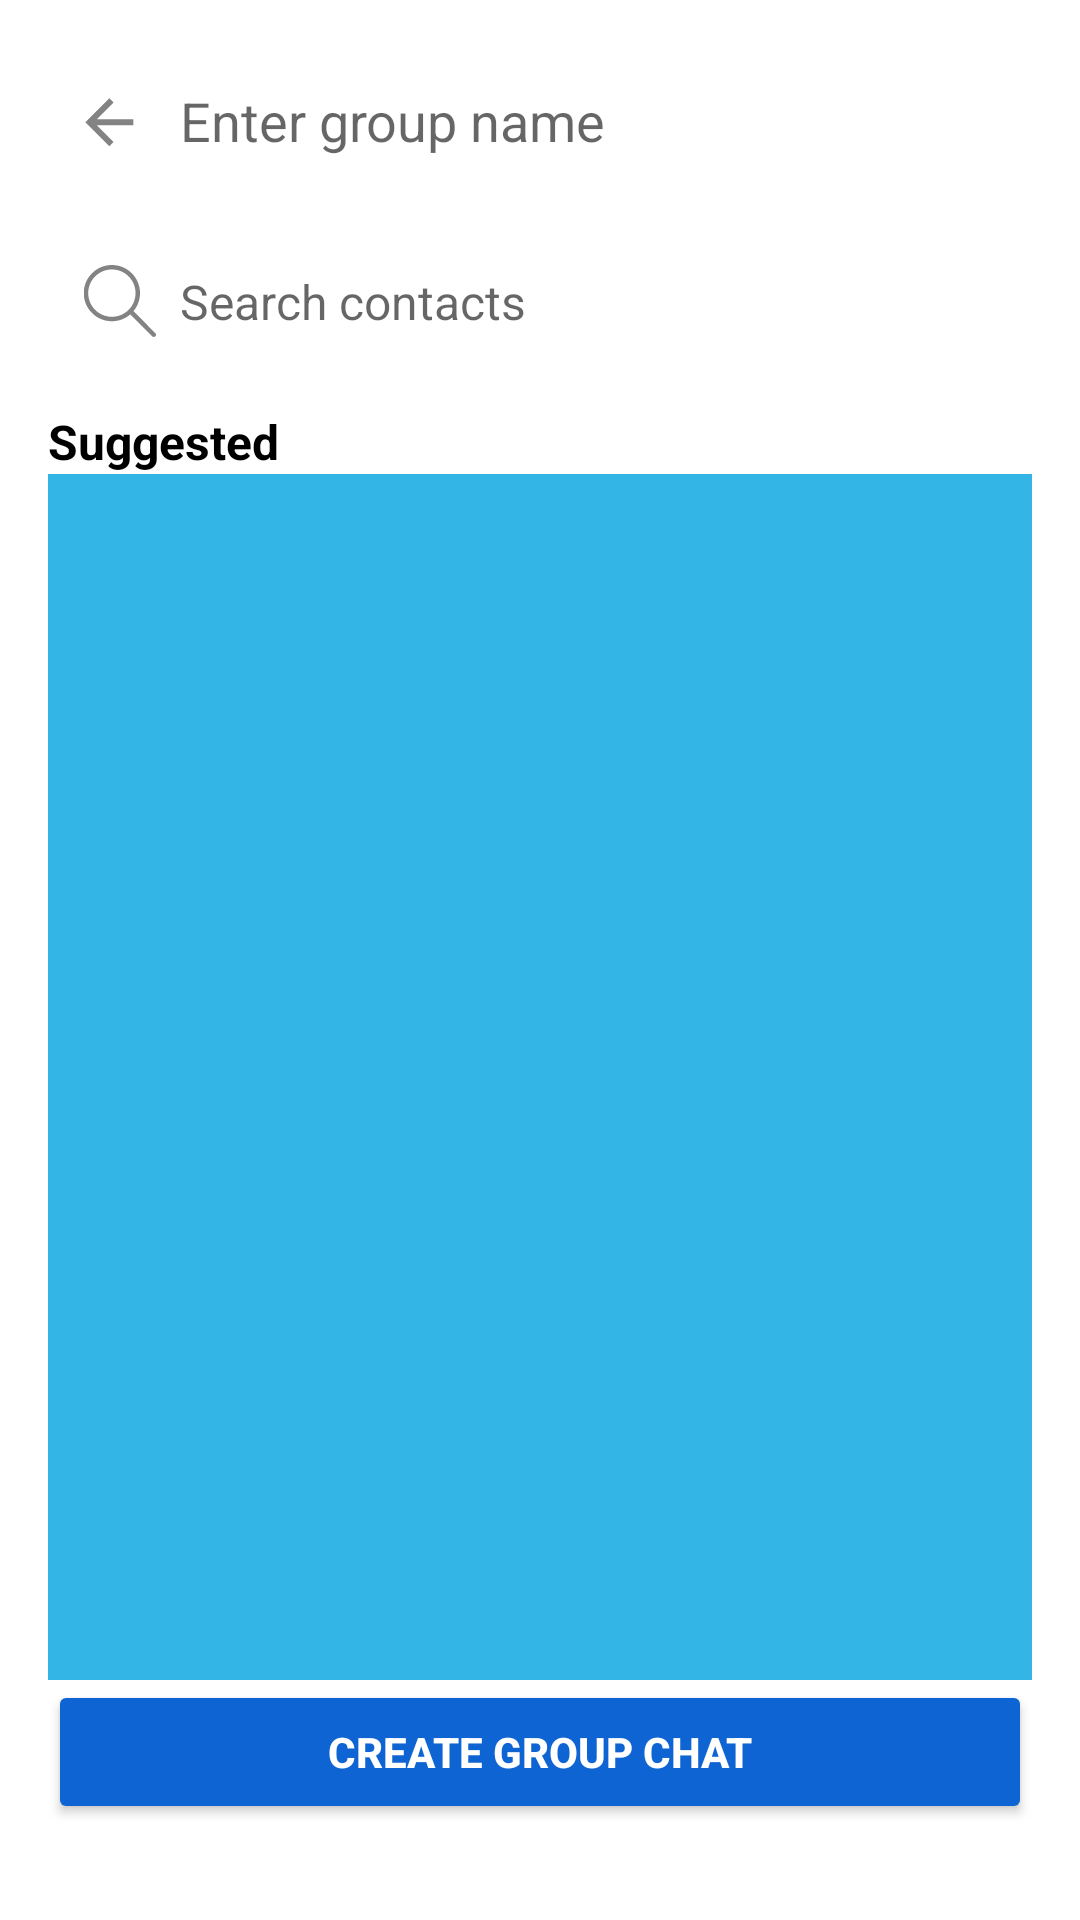

Locate icon controls on the screen. Image size 1080x1920, boxes as (x1, y1, x2, y2).
Back Button: (85, 98, 134, 146)
